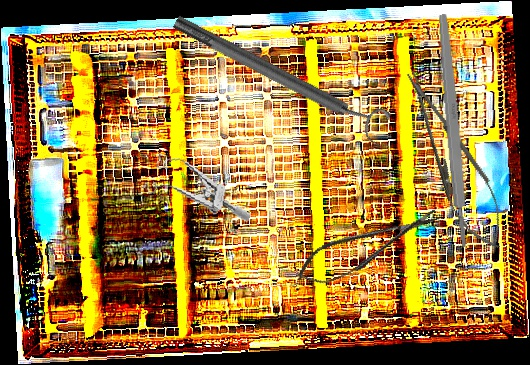Fixation Ring: (167, 2, 393, 148)
Micro Scissor: (289, 200, 448, 293)
Needle Holder: (389, 61, 519, 259)
Scalpel Handle: (435, 13, 471, 249)
Speculum: (139, 150, 259, 223)
